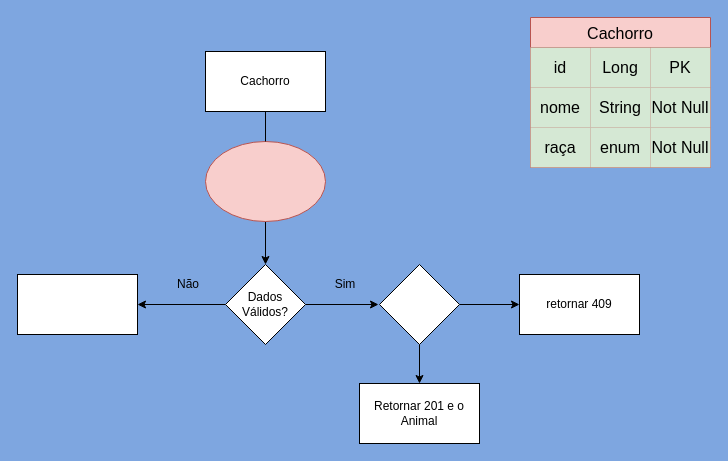
Some shapes in this 728 by 461 pixel diagram are drawn without their labels. The shapes that lost their labels are listed below. From the top down, each one's centre as x and y in pixels, then its label:
At [265,181]: "Salvar Cachorro".
At [77,304]: "Retornar 422".
At [419,304]: "Animal Existe?".
